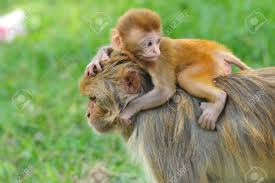monkey: (57, 10, 272, 177), (66, 5, 263, 118)
